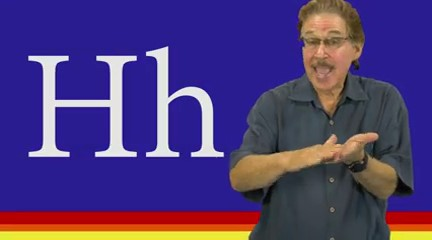H: (290, 131, 380, 178)
